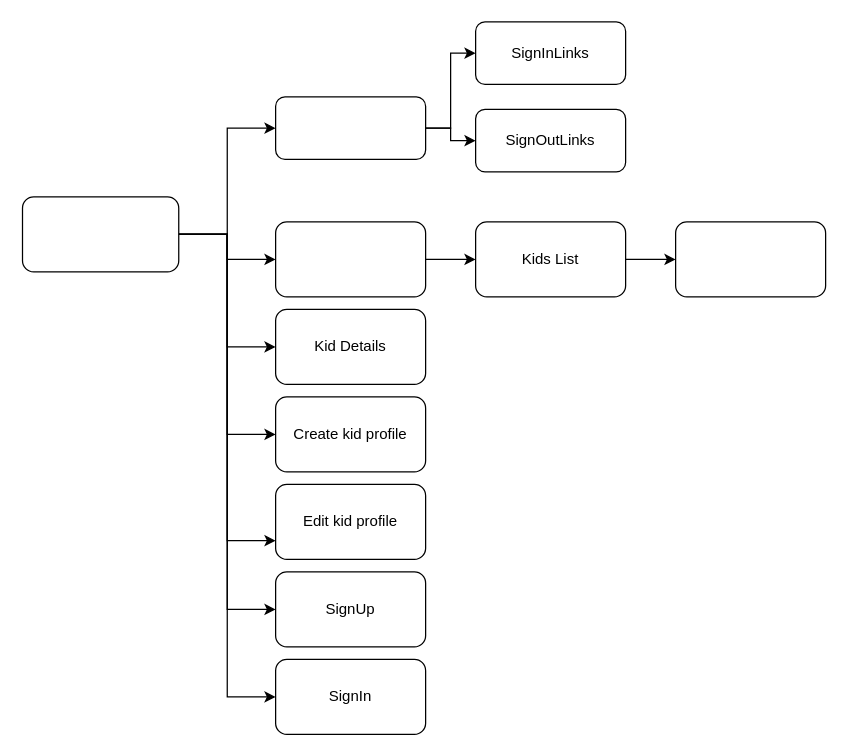
This 848x756 diagram has some shape labels left out. Here are the shapes that lost their labels. From the top down, the centre of each, then its label:
(350,127): Header
(100,234): App
(350,259): Parent Dashboard
(750,259): Kid
